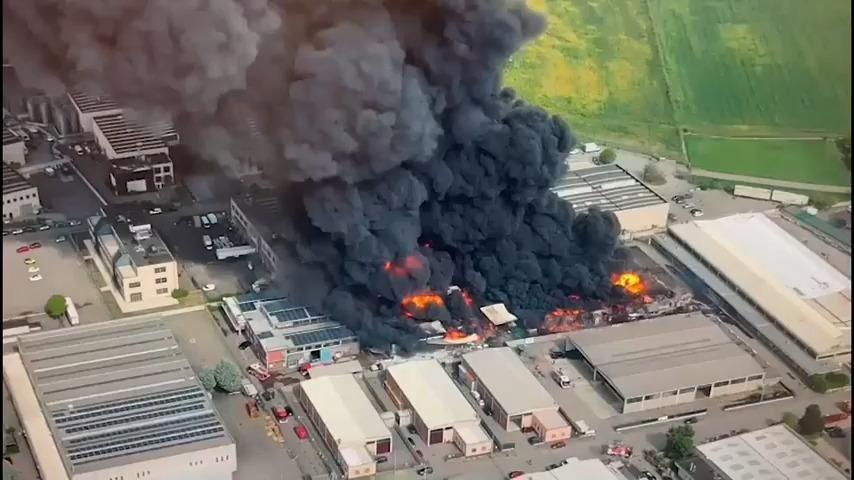fire: (377, 255, 490, 353)
